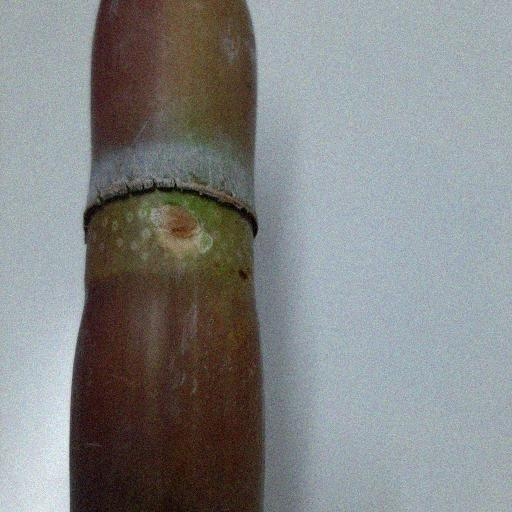Damage_Bud: (148, 201, 206, 242)
